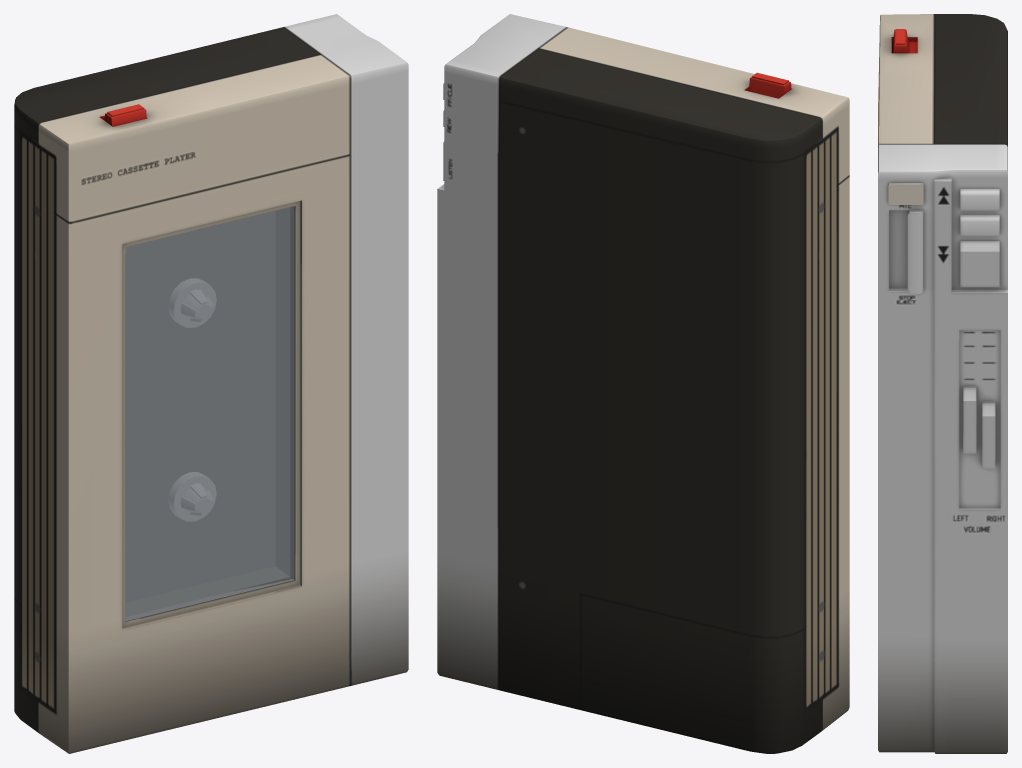
File: stylized_cassette_player.glb
3 views of the same model, side by side, from view 1: azimuth 30°, elevation 25°; view 2: azimuth 150°, elevation 25°; view 3: azimuth 270°, elevation 25° (orthographic). The views are drawn at different scales.
Visible parts, largest first — view 1: Player_lp, Glass, RollerThing_lp, RollerThing2_lp, Button1_lp; view 2: Player_lp, Button1_lp; view 3: Player_lp, Button4_lp, MuteBTN_lp, Slider2_lp, Slider1_lp, Button2_lp, Button3_lp, Mic_lp, Button1_lp.
Part boxes in pixels (x1,y1,x2,y2): Player_lp: [14, 14, 408, 753]; Glass: [125, 206, 294, 620]; RollerThing_lp: [168, 278, 216, 327]; RollerThing2_lp: [168, 472, 216, 521]; Button1_lp: [104, 104, 146, 126]; Player_lp: [437, 14, 849, 753]; Button1_lp: [748, 72, 791, 98]; Player_lp: [878, 14, 1007, 753]; Button4_lp: [960, 241, 999, 287]; MuteBTN_lp: [907, 210, 923, 294]; Slider2_lp: [981, 401, 995, 468]; Slider1_lp: [962, 386, 976, 453]; Button2_lp: [960, 188, 999, 210]; Button3_lp: [960, 214, 999, 236]; Mic_lp: [888, 183, 923, 204]; Button1_lp: [892, 29, 909, 53].
Size of the model in its own units: 0.0227 by 0.0386 by 0.00767.
1 material, 1 textured.
